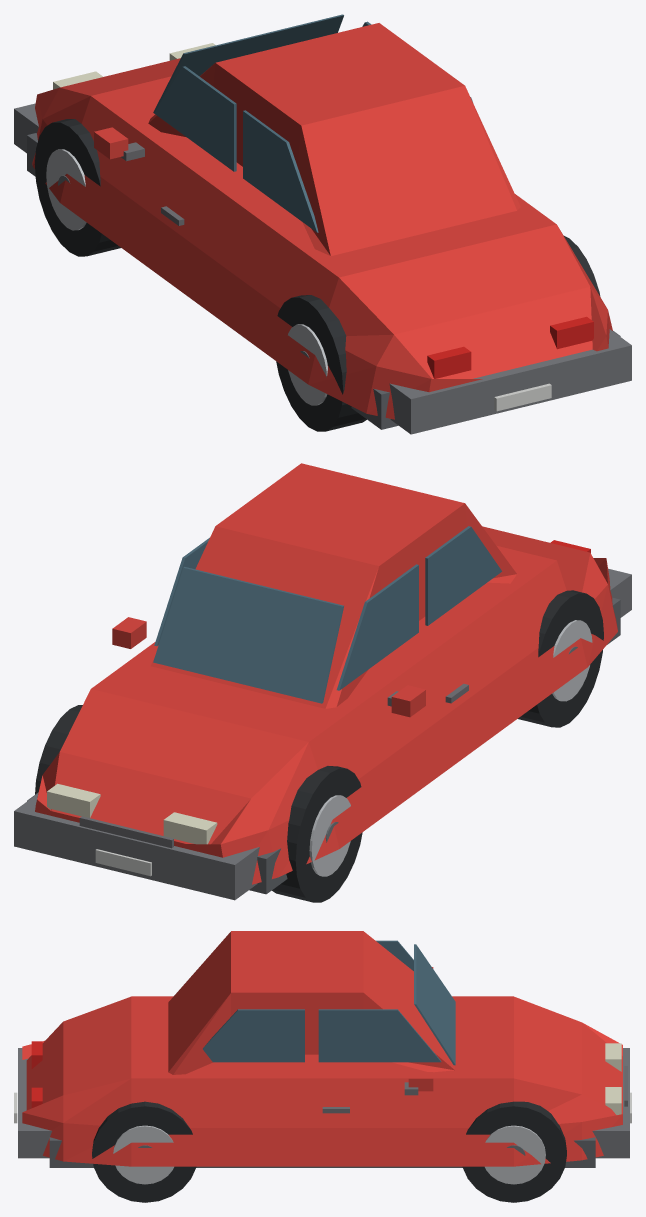
File: car.glb
The picture shows the model from 3 angles, top to bottom: view 1: azimuth 30°, elevation 25°; view 2: azimuth 150°, elevation 25°; view 3: azimuth 270°, elevation 25°; orthographic projection. The views are drawn at different scales.
Parts seen in each view (by area): view 1: Paint, Body; view 2: Paint, Body; view 3: Paint, Body.
Part boxes in pixels (x1,y1,x2,y2): Paint: [32, 23, 612, 419]; Body: [14, 14, 631, 434]; Paint: [35, 463, 617, 884]; Body: [14, 526, 631, 902]; Paint: [22, 931, 622, 1166]; Body: [14, 940, 631, 1202].
Size of the model in its own units: 1.97 by 1.55 by 4.53.
